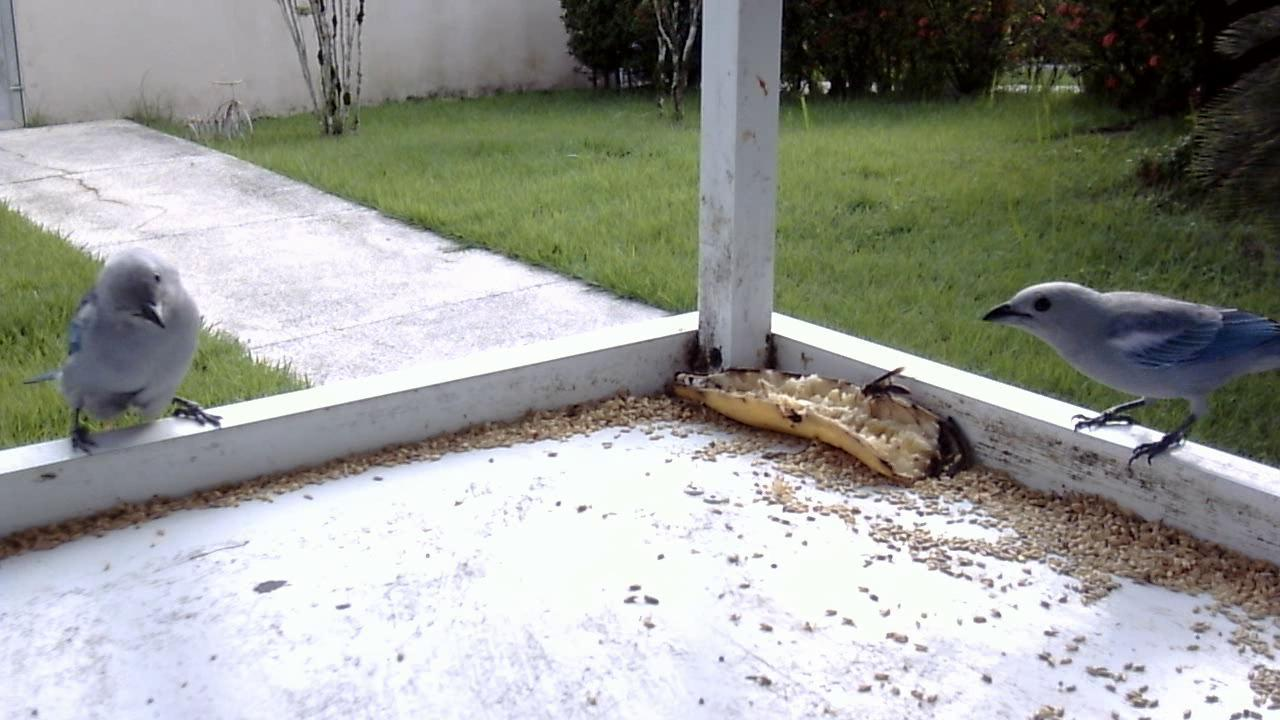sanhaco_da_amazonia: (974, 267, 1272, 477), (14, 241, 225, 461)
